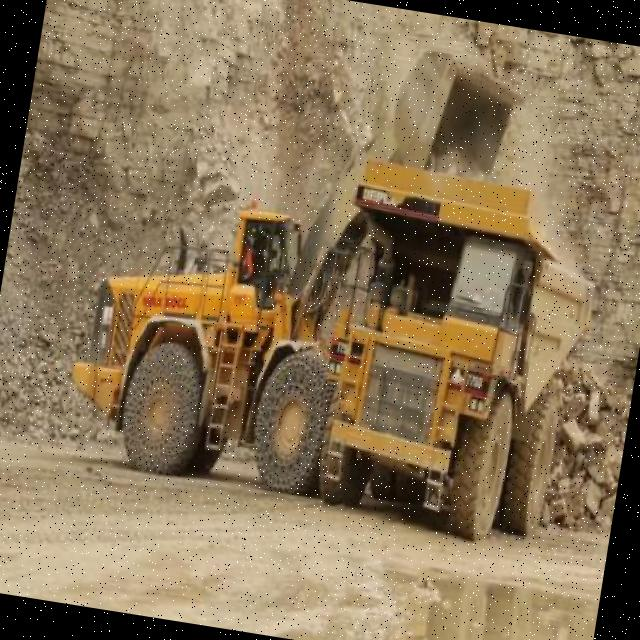Dump Truck: (306, 153, 610, 552)
